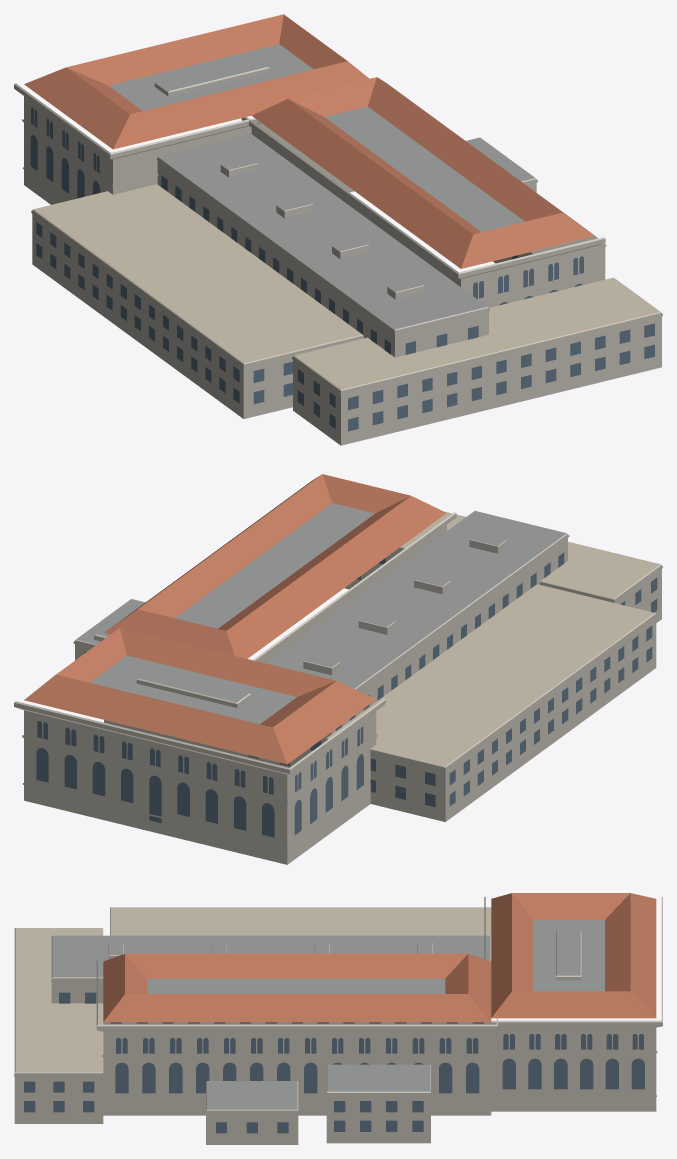
File: den-denver-mint.glb
The picture shows the model from 3 angles, top to bottom: view 1: azimuth 30°, elevation 25°; view 2: azimuth 150°, elevation 25°; view 3: azimuth 270°, elevation 25°; orthographic projection. The views are drawn at different scales.
Parts seen in each view (by area): view 1: United States Mint at Denver; view 2: United States Mint at Denver; view 3: United States Mint at Denver.
Part boxes in pixels (x1,y1,x2,y2): United States Mint at Denver: (14, 14, 662, 445); United States Mint at Denver: (14, 474, 662, 864); United States Mint at Denver: (14, 893, 662, 1144).
Size of the model in its own units: 86.2 by 24 by 126.
